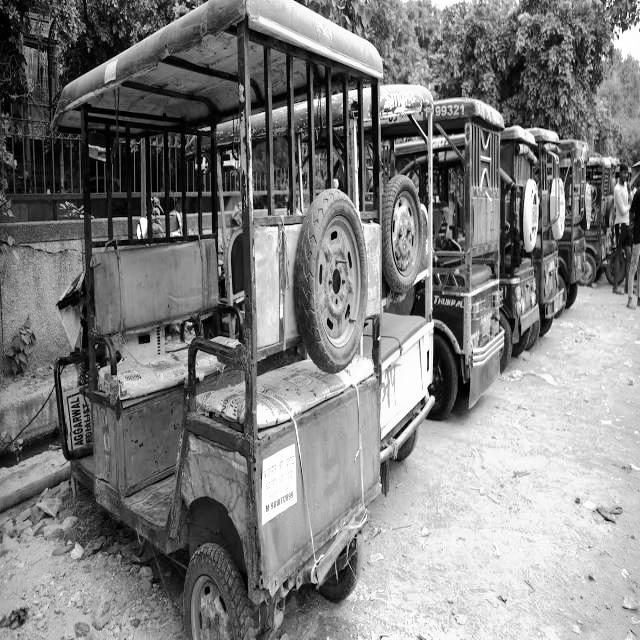Toto: (58, 3, 386, 640), (373, 76, 433, 463), (440, 97, 504, 433), (503, 130, 545, 363)
